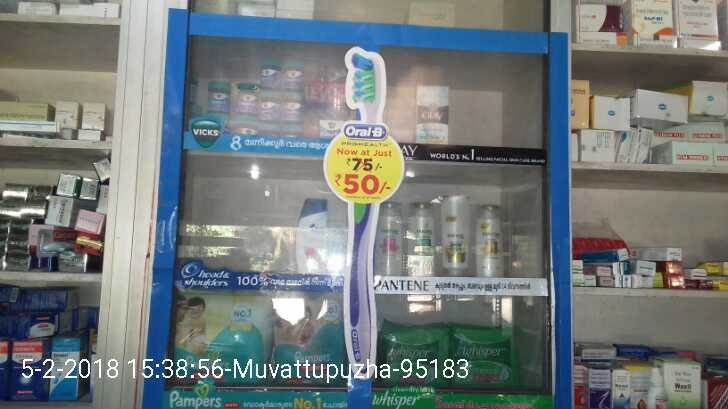vicks: (205, 63, 307, 135)
